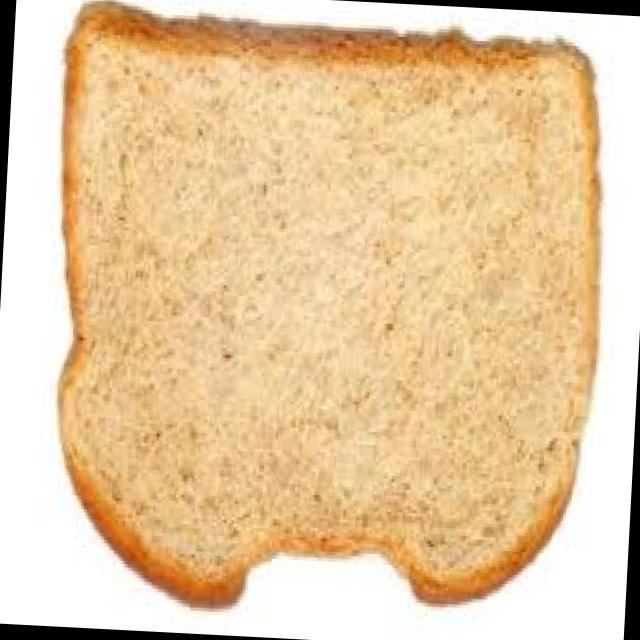Bread: (6, 0, 623, 640)
